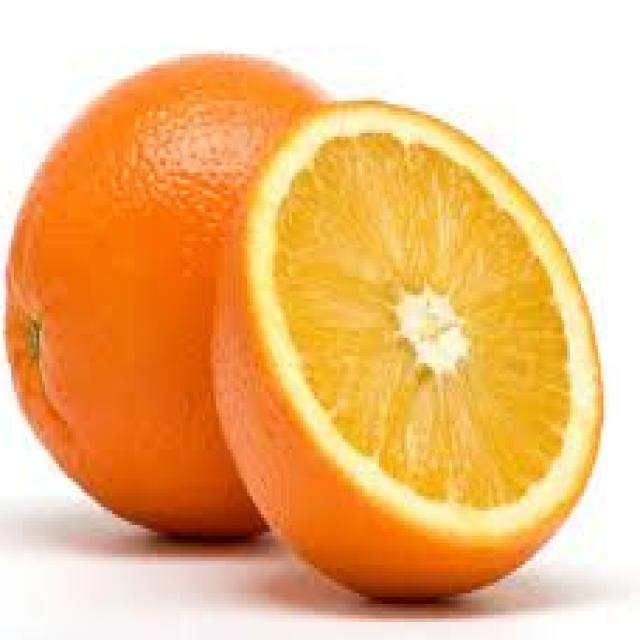orange: (0, 28, 621, 604)
